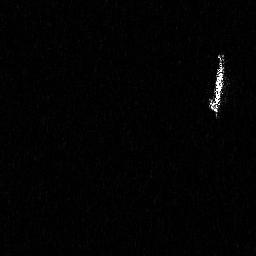ship: (206, 52, 226, 119)
